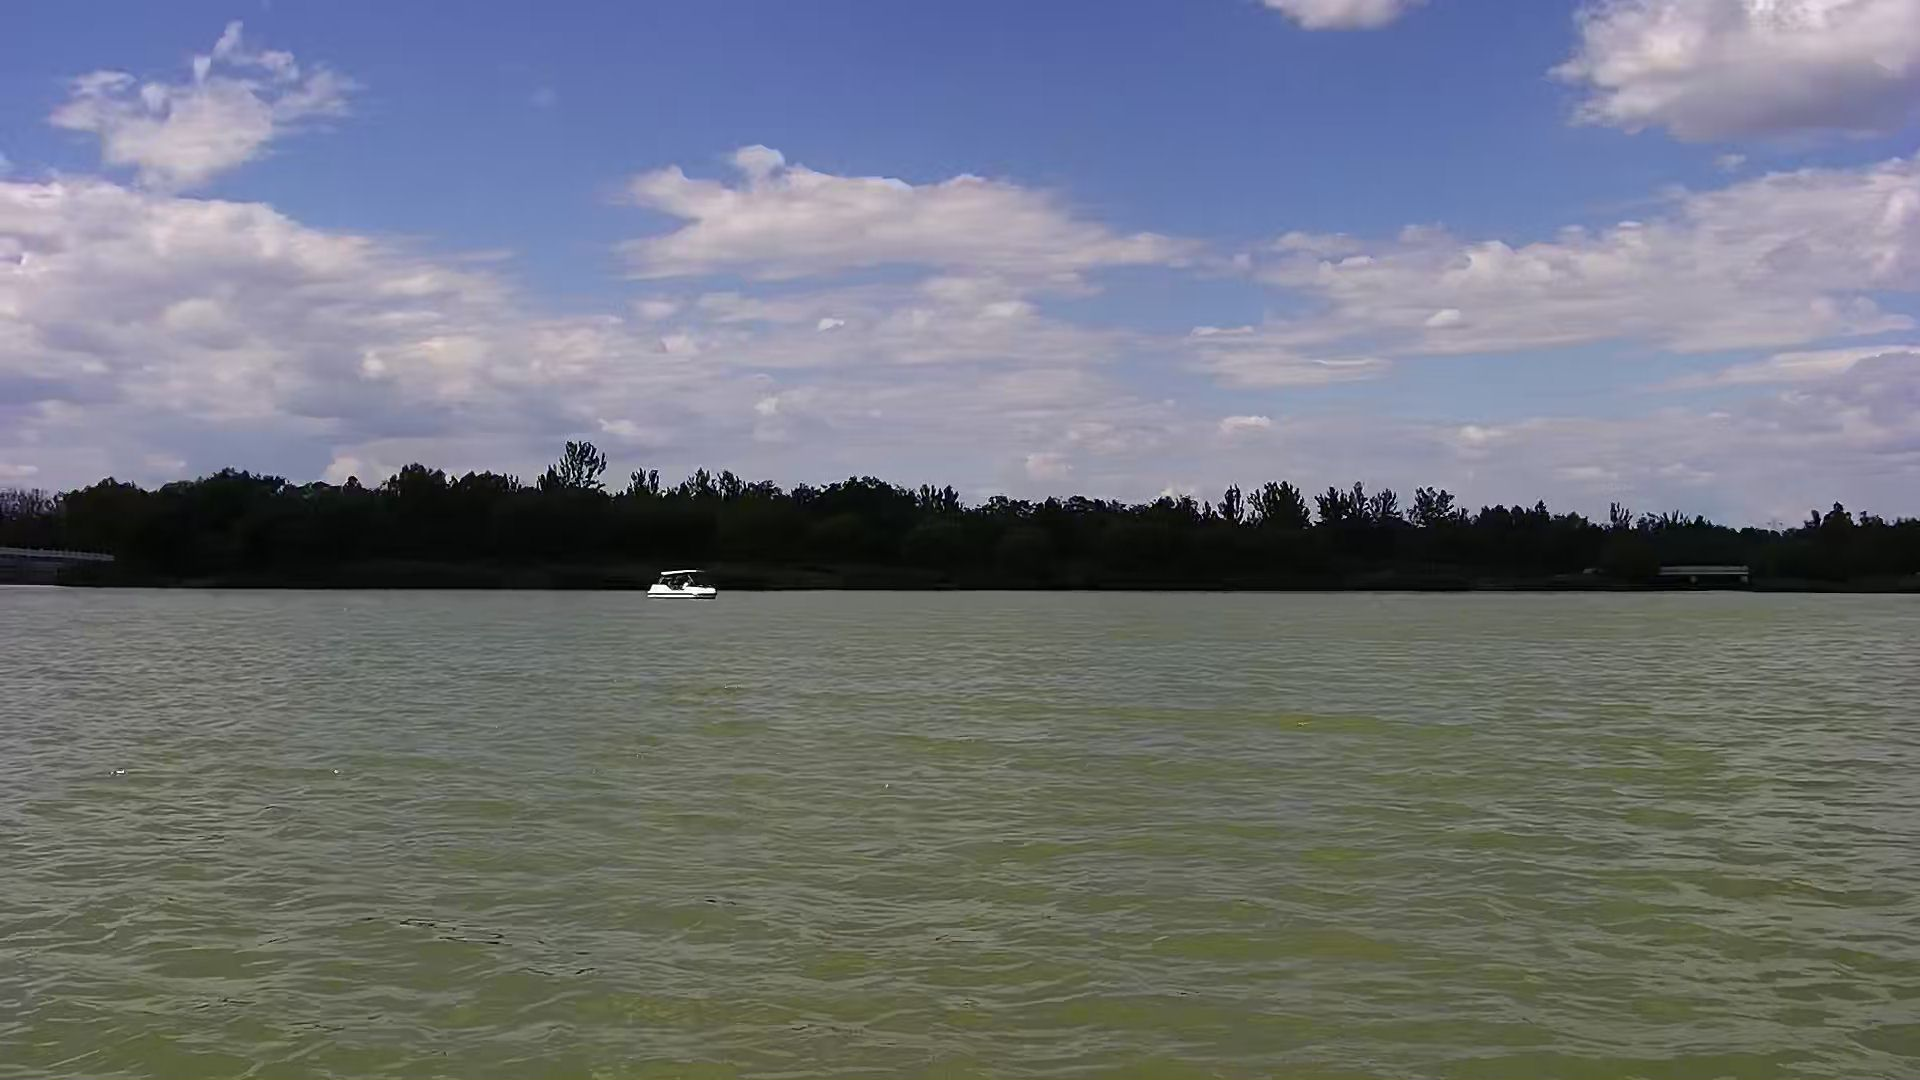boat: (647, 560, 727, 607)
